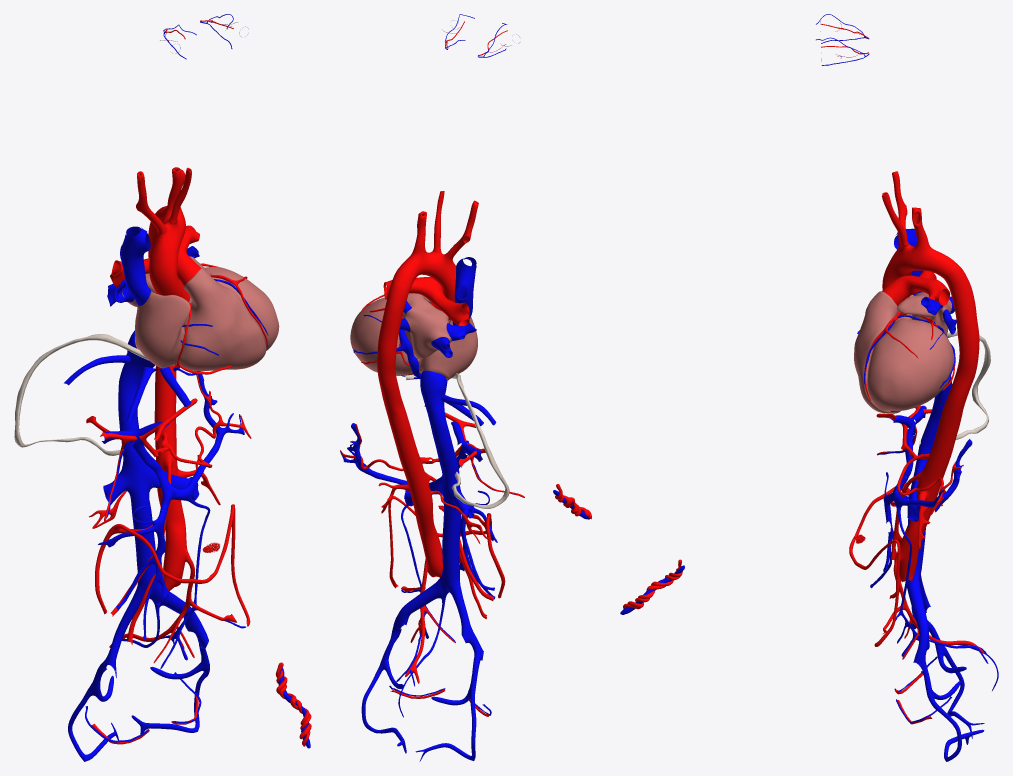
File: cardiovascular.glb
3 renders of one model, left to right at view 1: azimuth 30°, elevation 25°; view 2: azimuth 150°, elevation 25°; view 3: azimuth 270°, elevation 25°, orthographic. The views are drawn at different scales.
Parts seen in each view (by area): view 1: heart-right-ventricle, f-inferior-vena-cava-2, f-descending-aorta-2, right-cardiac-atrium, f-marginal-colic-artery, heart-left-ventricle, f-superior-vena-cava, coronary-ligament-of-liver, f-ascending-aorta, f-splenic-vein, arch-of-aorta, f-left-common-iliac-vein (+8 smaller); view 2: f-descending-aorta-2, f-inferior-vena-cava-2, f-descending-aorta, heart-left-ventricle, left-cardiac-atrium, right-cardiac-atrium, arch-of-aorta, coronary-ligament-of-liver, f-inferior-vena-cava, f-left-common-iliac-vein, f-superior-vena-cava, f-marginal-colic-artery (+4 smaller); view 3: heart-left-ventricle, f-descending-aorta-2, f-descending-aorta, heart-right-ventricle, arch-of-aorta, f-inferior-vena-cava-2, f-left-common-iliac-vein, f-marginal-colic-artery, f-splenic-vein, left-cardiac-atrium, f-left-pulmonary-artery, coronary-ligament-of-liver.
Part boxes in pixels (box(x1,y1,x2,y2)): heart-right-ventricle: box(176, 267, 266, 371); f-inferior-vena-cava-2: box(118, 370, 160, 599); f-descending-aorta-2: box(154, 366, 187, 591); right-cardiac-atrium: box(135, 290, 190, 368); f-marginal-colic-artery: box(95, 504, 250, 626); heart-left-ventricle: box(204, 267, 279, 350); f-superior-vena-cava: box(120, 226, 150, 305); coronary-ligament-of-liver: box(14, 334, 175, 455); f-ascending-aorta: box(149, 250, 190, 301); f-splenic-vein: box(163, 371, 244, 501); arch-of-aorta: box(151, 206, 185, 252); f-left-common-iliac-vein: box(151, 583, 208, 649); f-descending-aorta-2: box(386, 402, 442, 577); f-inferior-vena-cava-2: box(428, 412, 461, 593); f-descending-aorta: box(377, 278, 409, 411); heart-left-ventricle: box(350, 297, 416, 375); left-cardiac-atrium: box(402, 293, 452, 359); right-cardiac-atrium: box(416, 317, 477, 380); arch-of-aorta: box(393, 250, 456, 288); coronary-ligament-of-liver: box(404, 373, 509, 508); f-inferior-vena-cava: box(420, 370, 447, 413); f-left-common-iliac-vein: box(390, 577, 445, 641); f-superior-vena-cava: box(452, 257, 476, 325); f-marginal-colic-artery: box(388, 496, 505, 598); heart-left-ventricle: box(867, 319, 954, 410); f-descending-aorta-2: box(899, 397, 964, 581); f-descending-aorta: box(943, 266, 979, 406); heart-right-ventricle: box(854, 291, 900, 413); arch-of-aorta: box(890, 244, 959, 277); f-inferior-vena-cava-2: box(907, 384, 952, 578); f-left-common-iliac-vein: box(907, 572, 929, 671); f-marginal-colic-artery: box(849, 486, 910, 646); f-splenic-vein: box(893, 439, 972, 512); left-cardiac-atrium: box(897, 292, 951, 335); f-left-pulmonary-artery: box(905, 275, 950, 305); coronary-ligament-of-liver: box(919, 331, 990, 444).
Size of the model in its own units: 0.2311 by 0.7992 by 0.3823.
